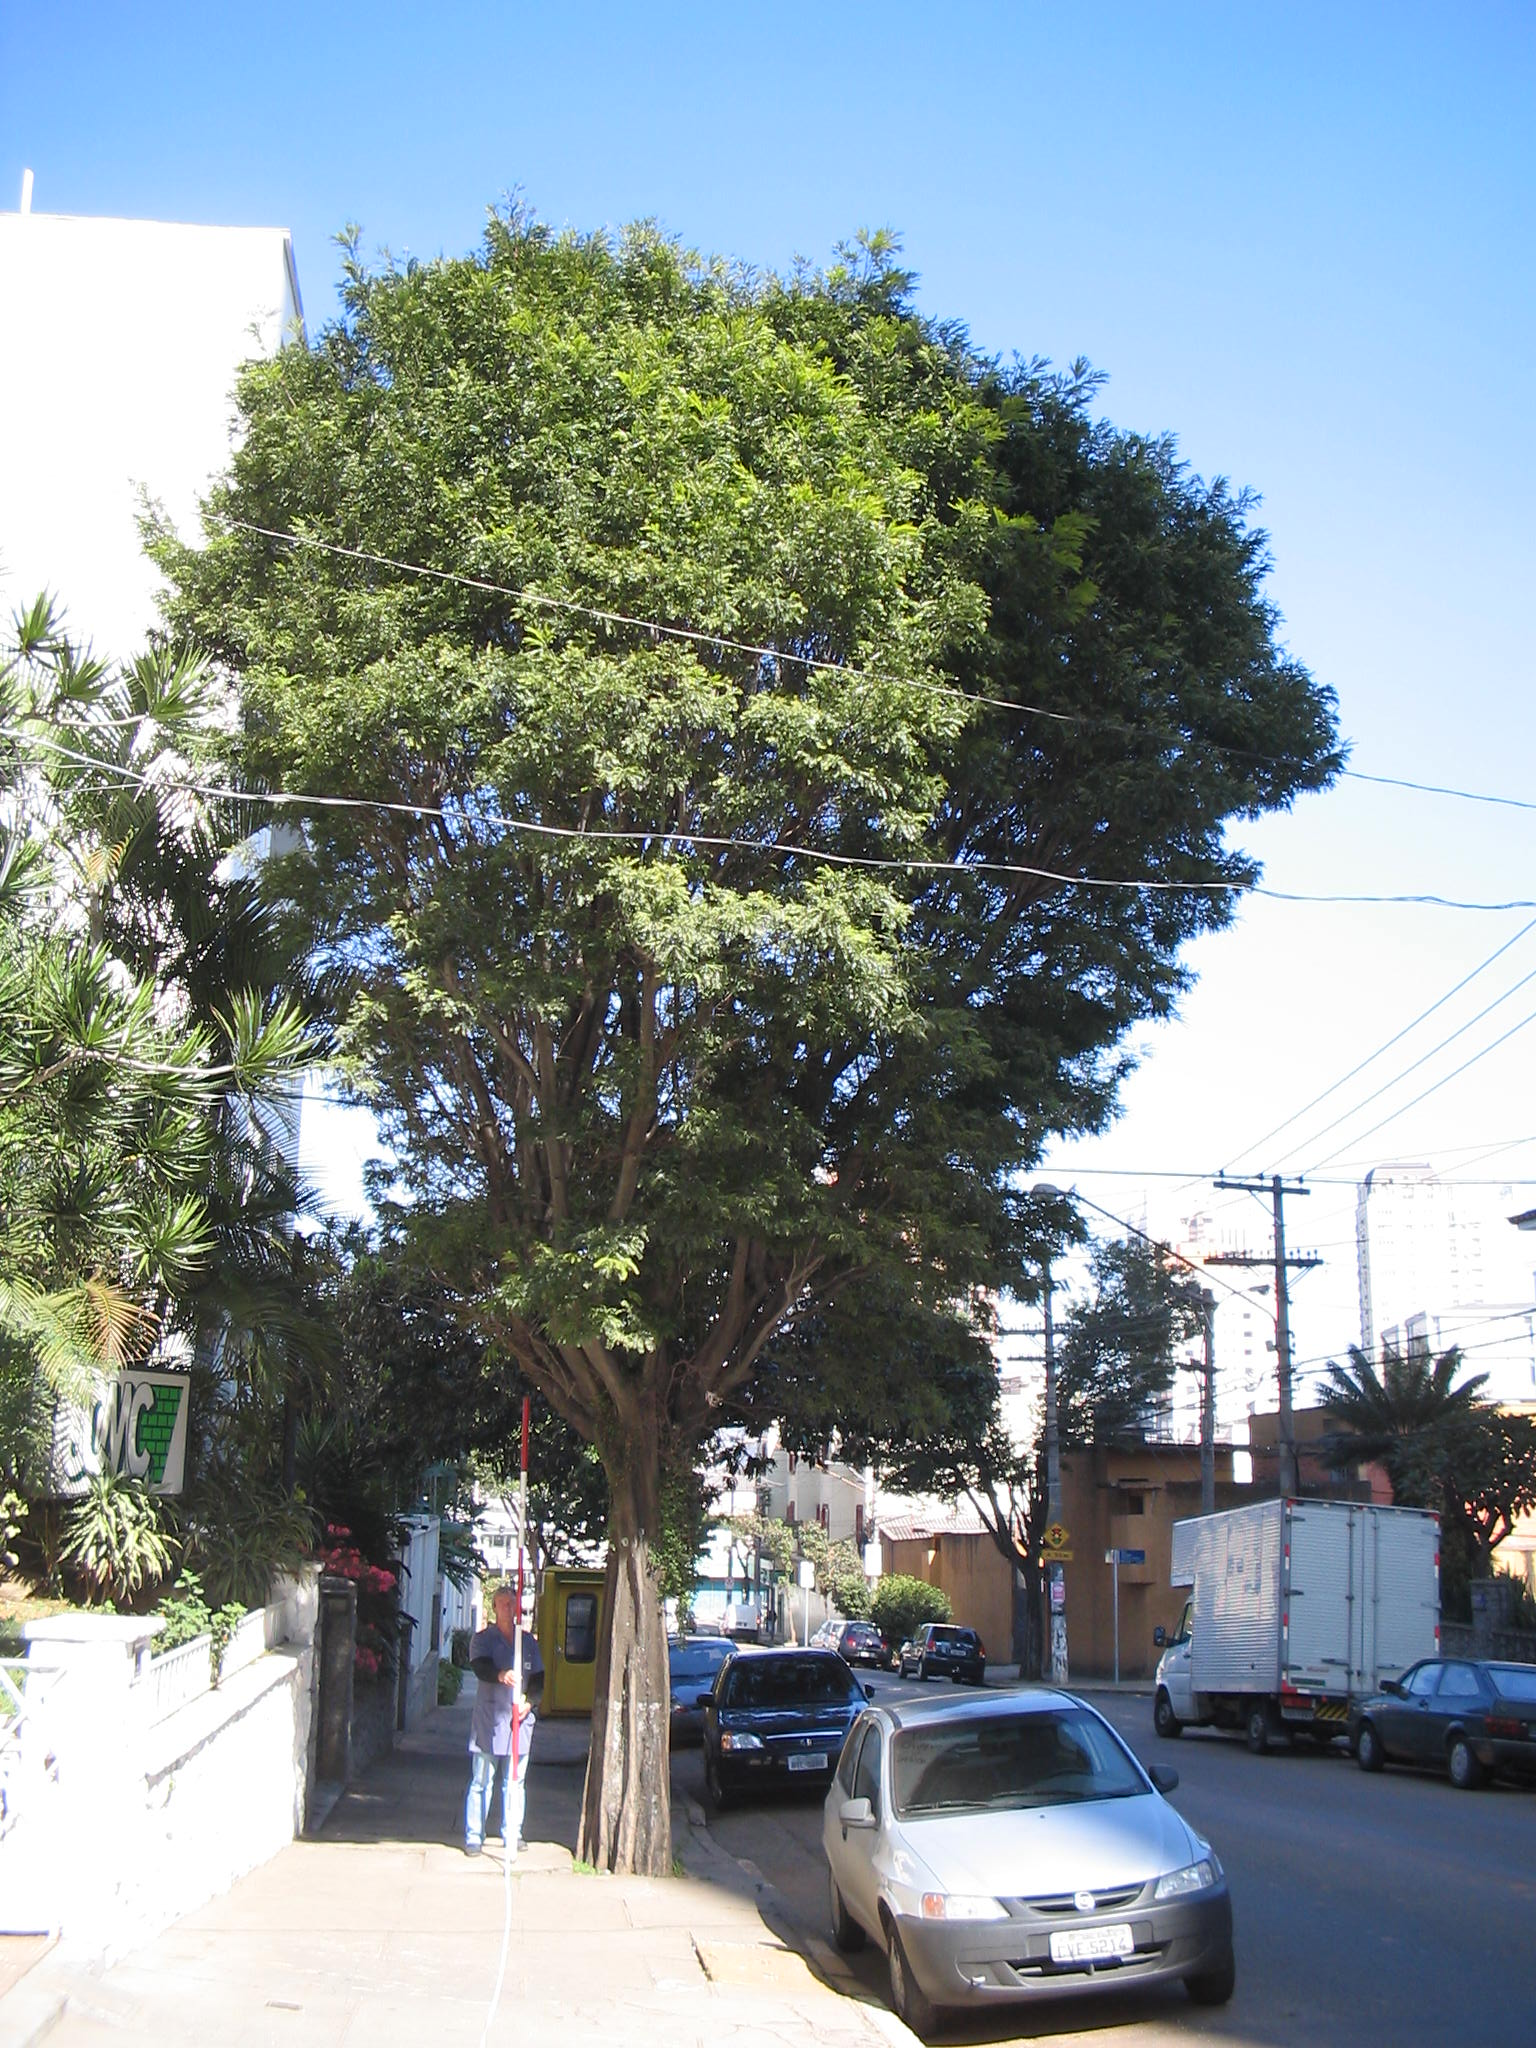crown: (136, 184, 1092, 1392)
stem: (552, 1458, 721, 1879)
stick: (471, 1395, 561, 1872)
tree: (127, 182, 1100, 1887)
